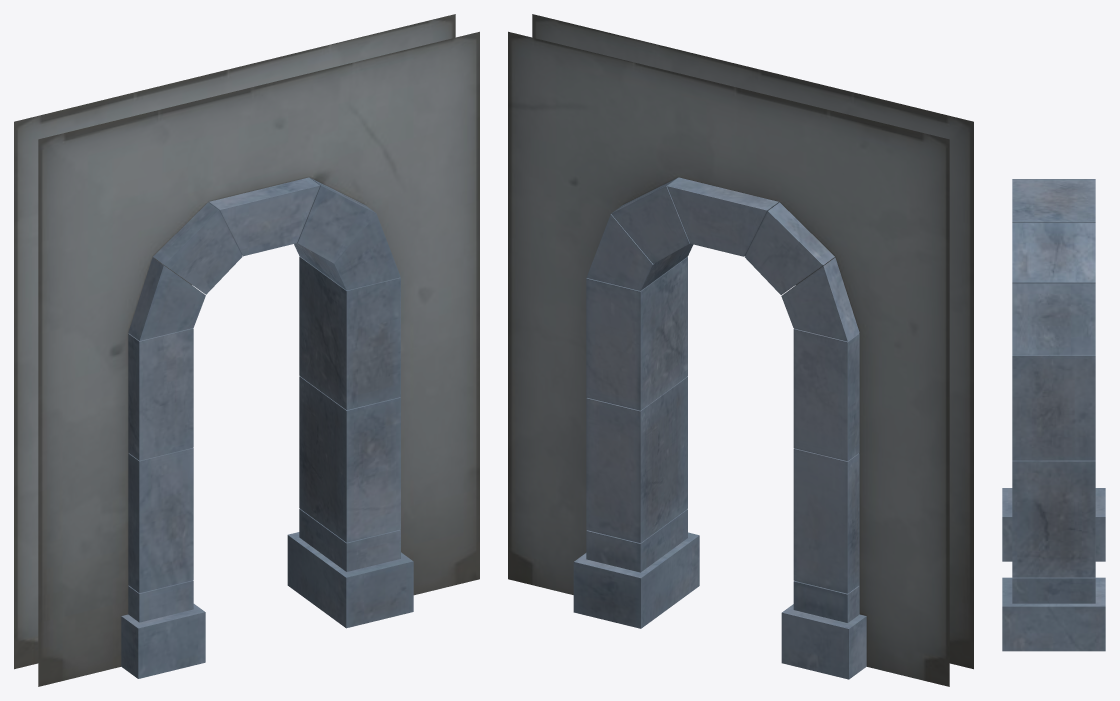
File: room_wall_arch.gltf
3 renders of one model, left to right at view 1: azimuth 30°, elevation 25°; view 2: azimuth 150°, elevation 25°; view 3: azimuth 270°, elevation 25°, orthographic. The views are drawn at different scales.
Visible parts, largest first — view 1: room_wall_arch; view 2: room_wall_arch; view 3: room_wall_arch.
Boxes of the visible parts, box(x1,y1,x2,y2) form: room_wall_arch: box(14, 14, 479, 686); room_wall_arch: box(508, 14, 973, 686); room_wall_arch: box(1002, 179, 1105, 651).
Size of the model in its own units: 16.91 by 20.04 by 3.9.
2 materials, 2 textured.
